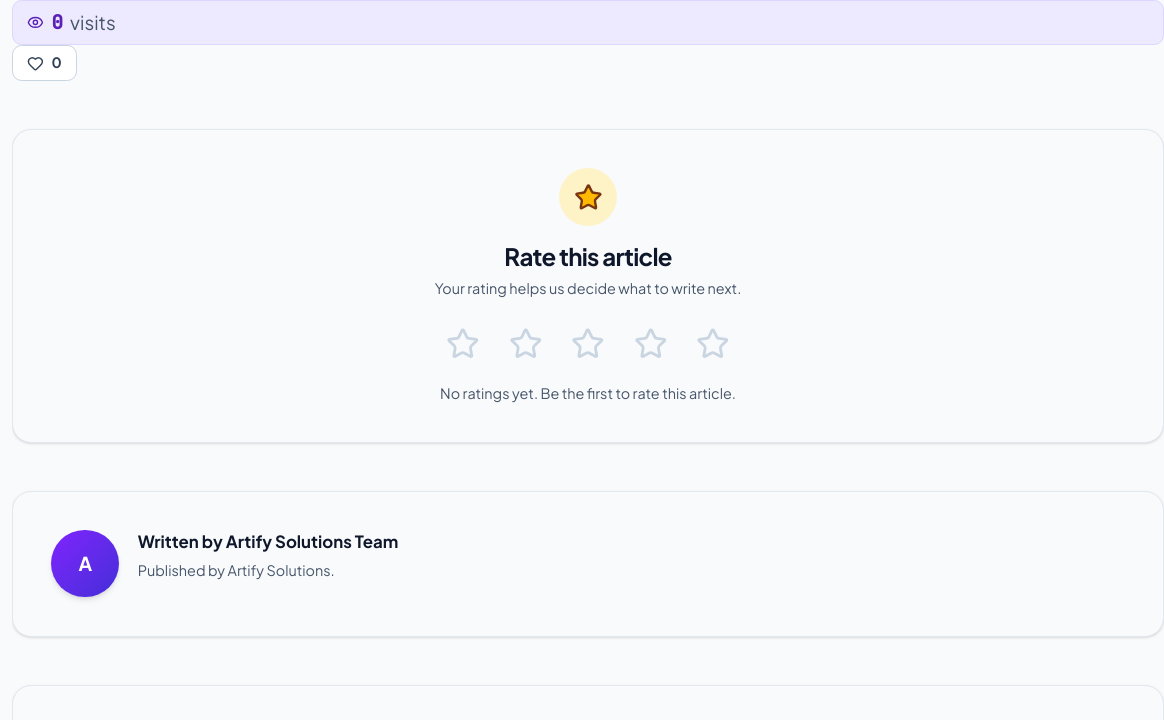
Test: engagement UI › saves a rating and shows the real average returned by the server
The width and height of the screenshot is (1164, 720).
Step 1. Click the button named "Rate 4 out of 5 stars" → click(650, 343), box [624, 317, 677, 370]
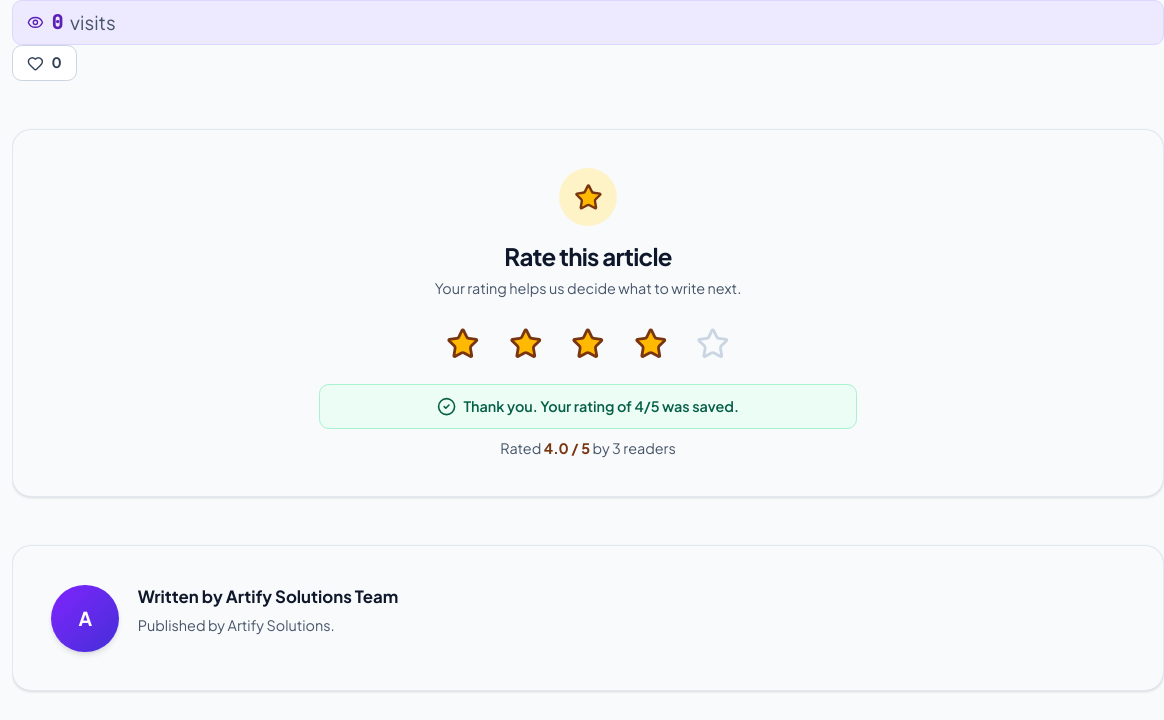
Result: the text "Thank you. Your rating of 4/5 was saved." is shown at [463, 397, 739, 416]
Result: the text "4.0 / 5" is shown at [544, 439, 590, 457]
